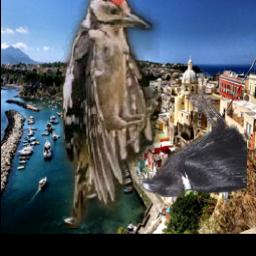Crow: (139, 87, 247, 198)
Woodpecker: (61, 0, 163, 229)
